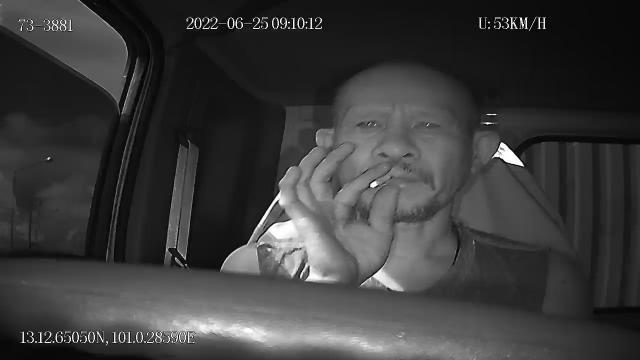SafeDriving: (407, 109, 448, 138), (349, 110, 388, 134)
Smoking: (371, 176, 394, 188)
